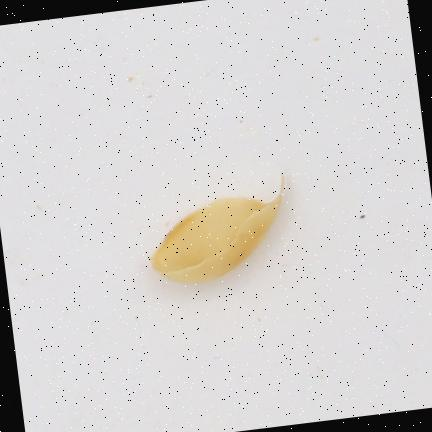parchment: (151, 176, 283, 282)
